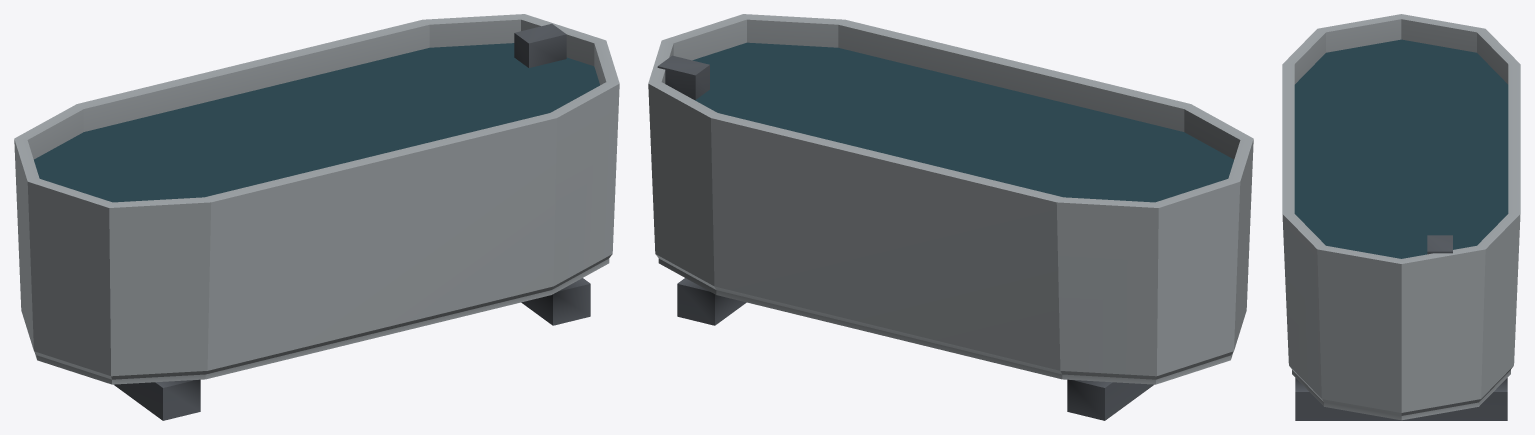
The model's file is trough.far.glb.
3 views of the same model, side by side, from view 1: azimuth 30°, elevation 25°; view 2: azimuth 150°, elevation 25°; view 3: azimuth 270°, elevation 25° (orthographic). The views are drawn at different scales.
Parts seen in each view (by area): view 1: trough_far; view 2: trough_far; view 3: trough_far.
Boxes of the visible parts, x1,y1,x2,y2 form: trough_far: [14, 14, 619, 420]; trough_far: [648, 14, 1253, 420]; trough_far: [1282, 14, 1520, 420].
Bounding box in the file's own units: 1.84 × 0.655 × 0.74.
